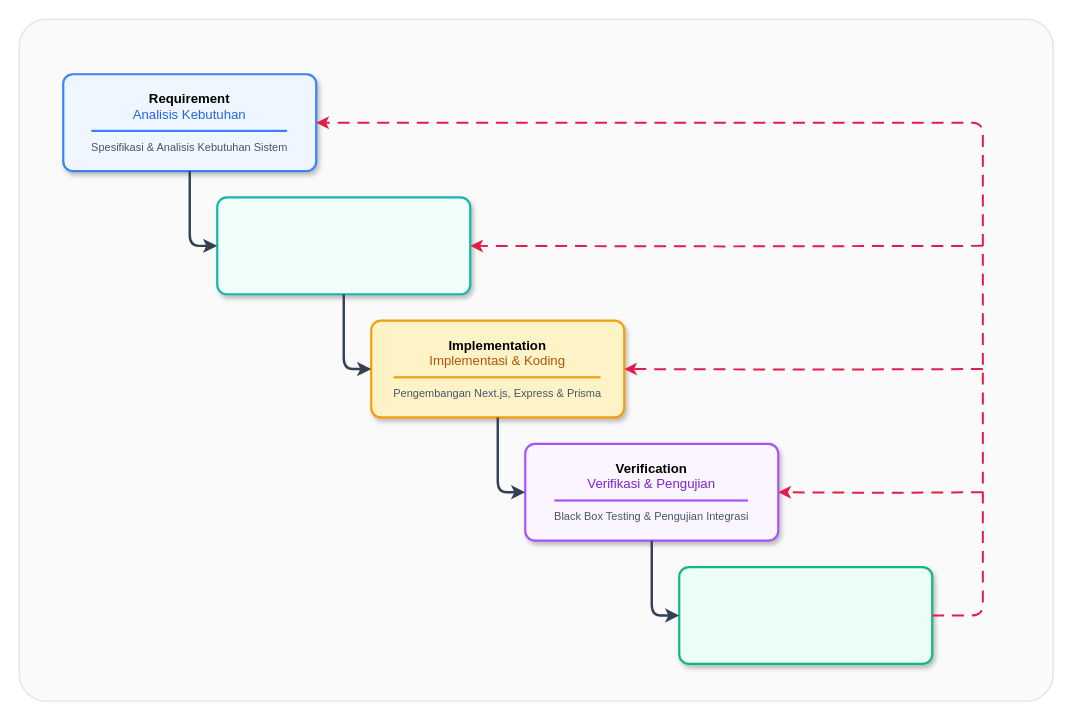
This 1074x722 diagram has some shape labels left out. The shapes that lost their labels are listed below. From the top down, each one's centre as x and y in pixels, then its label:
At (x=344, y=246): "Design Perancangan Sistem Arsitektur UML, Skema Basis Data & UI/UX".
At (x=806, y=616): "Maintenance Pemeliharaan Sistem Monitoring Performa & Perbaikan Galat".
